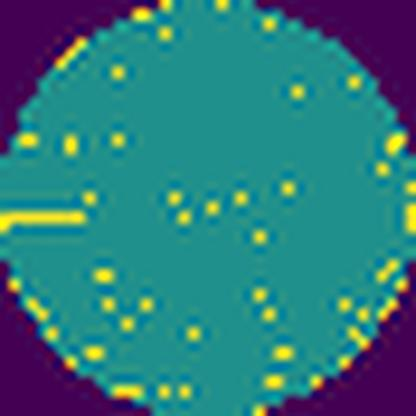Scratch: (0, 207, 90, 235)
